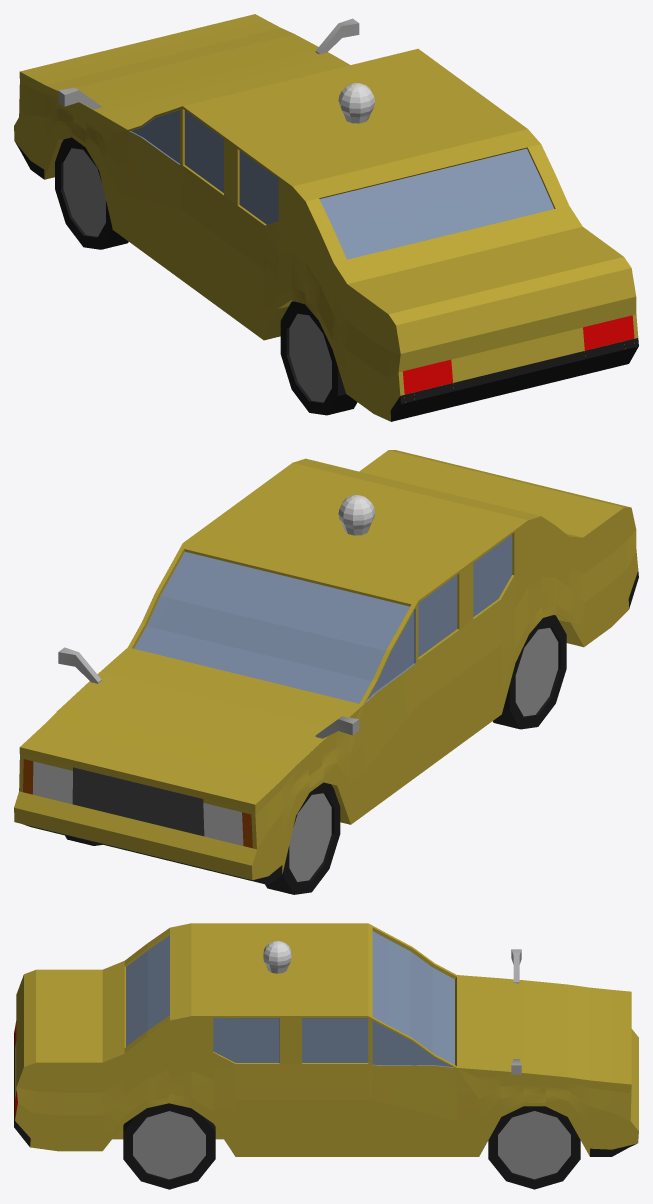
File: TokyoTaxi.fbx
3 renders of one model, top to bottom at view 1: azimuth 30°, elevation 25°; view 2: azimuth 150°, elevation 25°; view 3: azimuth 270°, elevation 25°, orthographic. The views are drawn at different scales.
Visible parts, largest first — view 1: Taxi2; view 2: Taxi2; view 3: Taxi2.
Part boxes in pixels (x1=…): Taxi2: x1=14, y1=14, x2=638, y2=421; Taxi2: x1=14, y1=450, x2=638, y2=894; Taxi2: x1=14, y1=923, x2=638, y2=1189.
Bounding box in the file's own units: 46.45 × 37.9 × 106.
